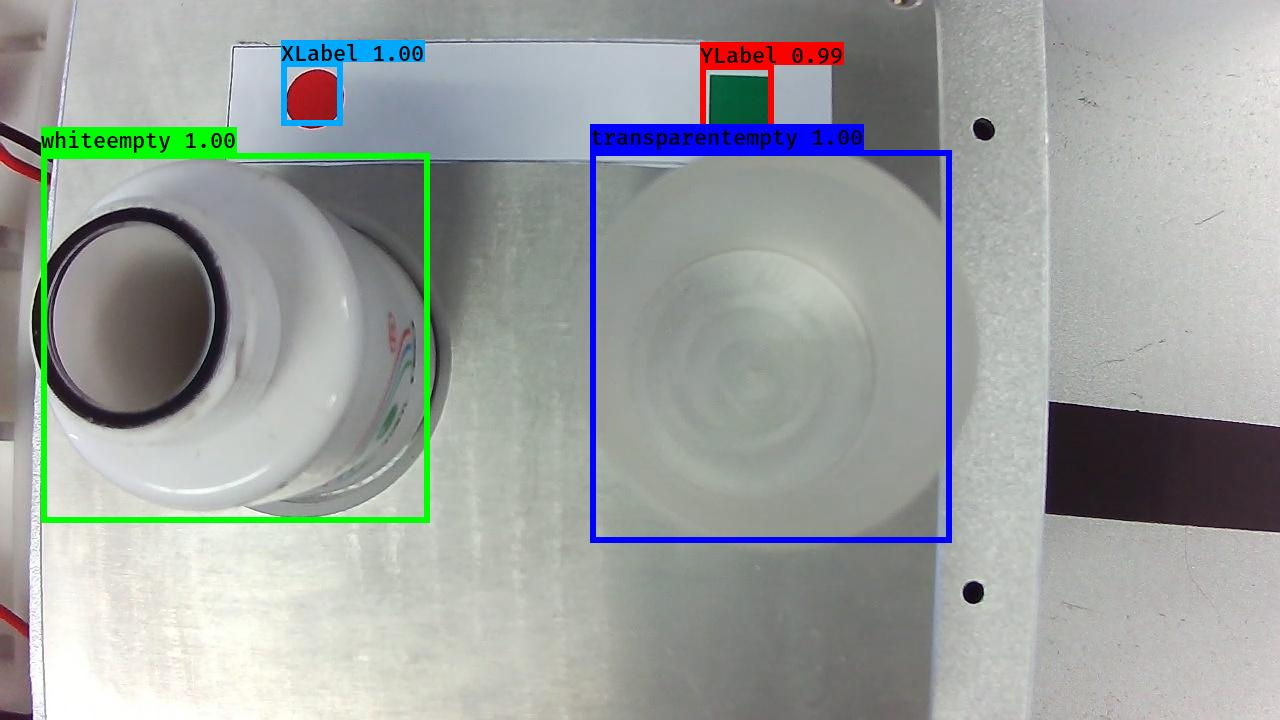XLabel: (283, 65, 346, 132)
YLabel: (705, 70, 776, 143)
transparentempty: (570, 140, 980, 553)
whiteempty: (31, 153, 454, 527)
